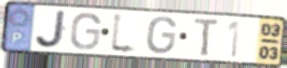1: (227, 20, 241, 59)
G: (68, 11, 103, 51), (145, 15, 178, 55)
J: (33, 9, 69, 50)
L: (108, 10, 140, 57)
T: (192, 17, 221, 58)
